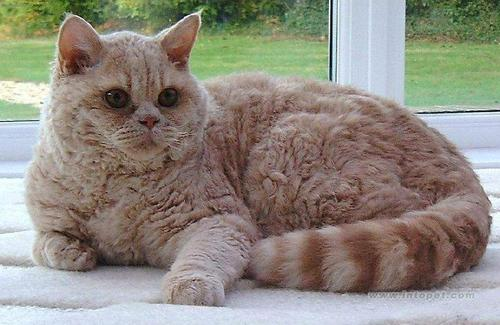cat: (25, 8, 495, 309)
